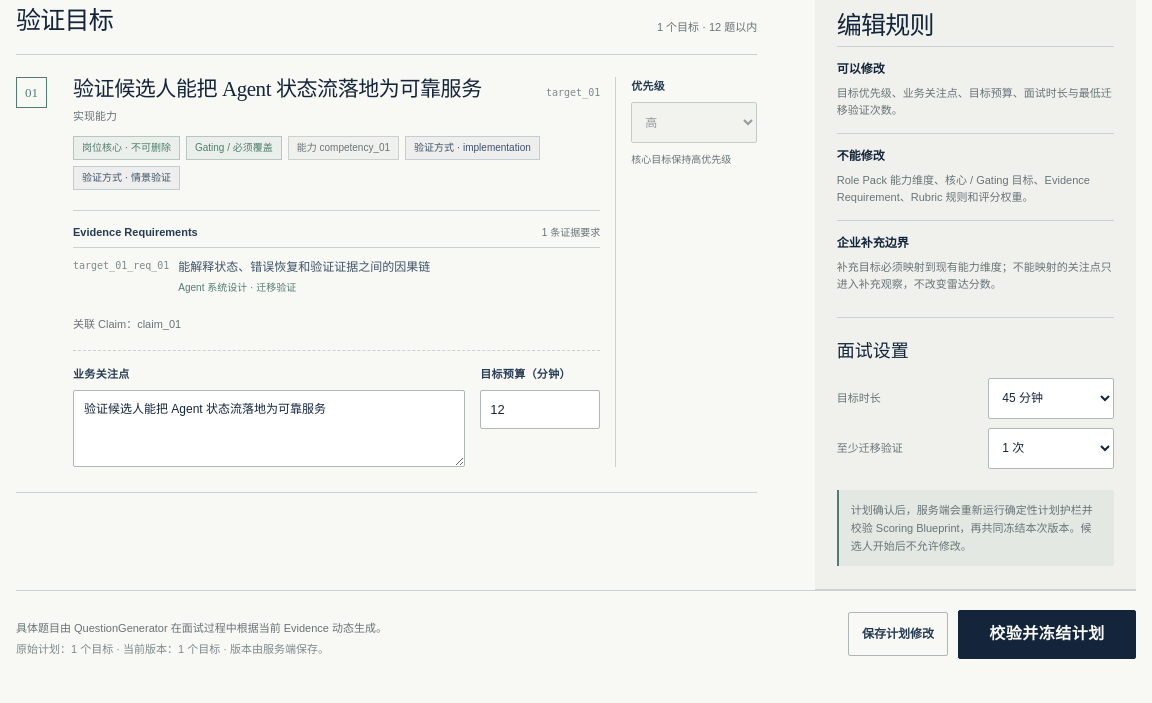
it: PlanReviewPage › sends allowed edits and renders a server guardrail error beside the plan
(page scrolled)
Replace the text in the text box labelled "业务关注点" with "重点核验线上故障恢复": {"x": 269, "y": 428} [73,390,465,467]
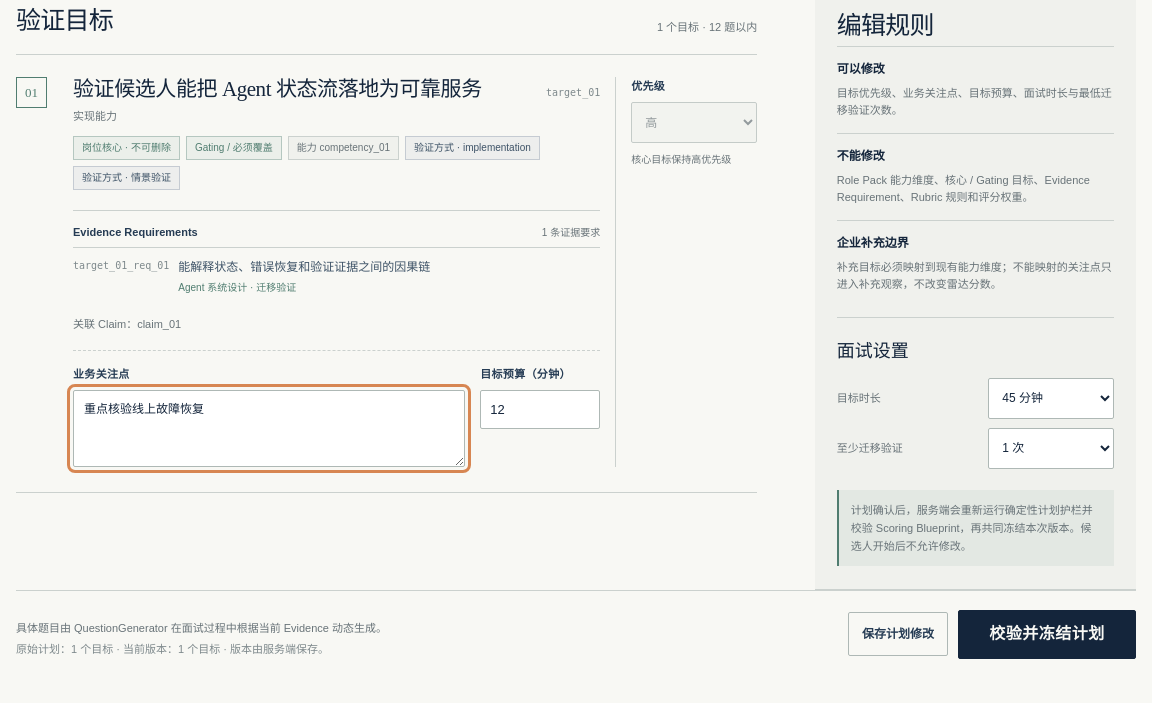
Click the button "保存计划修改": {"x": 898, "y": 634} [848,612,948,656]
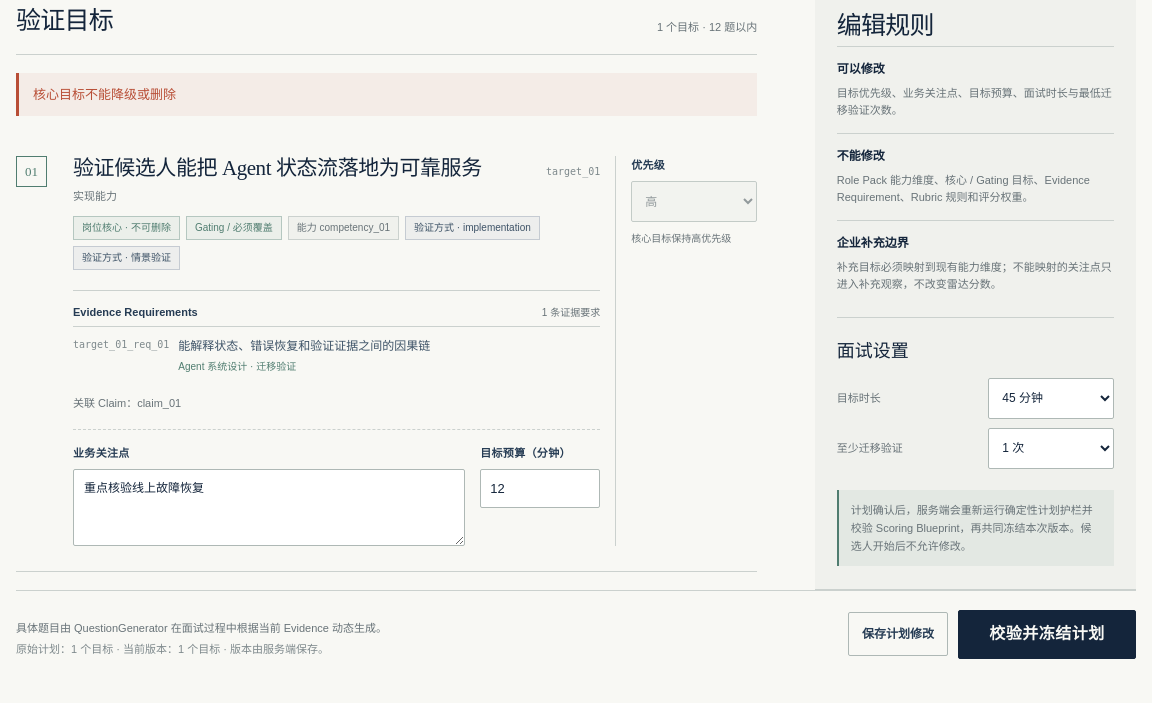
Expected: the message reads "核心目标不能降级或删除", [33,87,176,102]
